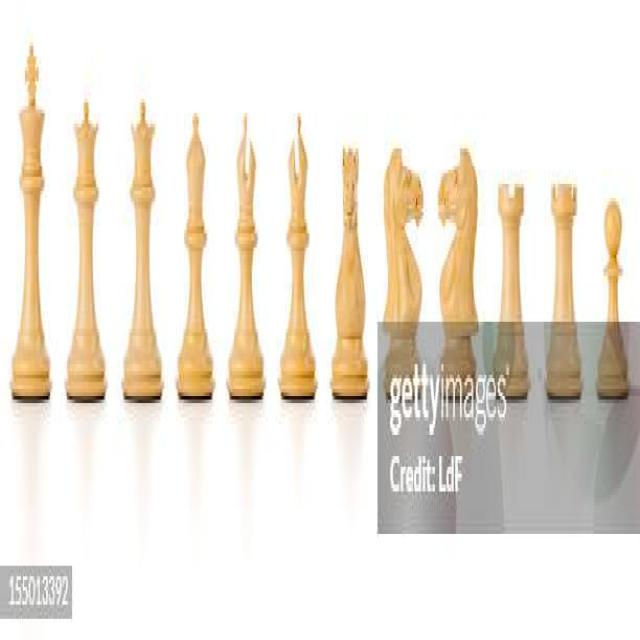white-bishop: (174, 112, 216, 404), (226, 112, 267, 404), (278, 114, 318, 403)
white-king: (9, 41, 53, 404)
white-knight: (329, 147, 371, 404), (382, 148, 424, 401), (438, 148, 479, 403)
white-pawn: (595, 197, 631, 401)
white-queen: (64, 98, 108, 404), (121, 98, 165, 404)
white-rook: (544, 184, 585, 404), (493, 184, 532, 404)
